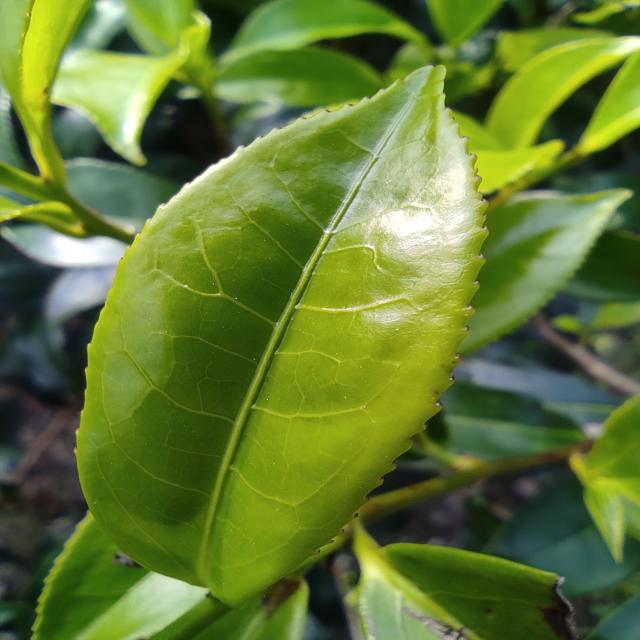Category B(2-4 days): (68, 52, 501, 612)
